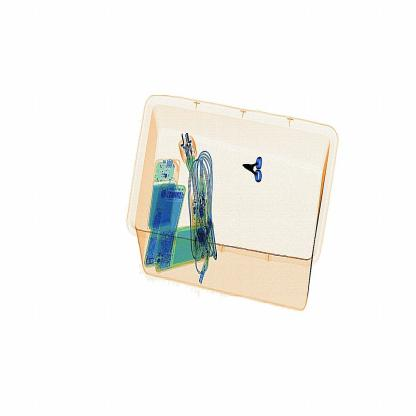gun: (236, 145, 274, 189)
